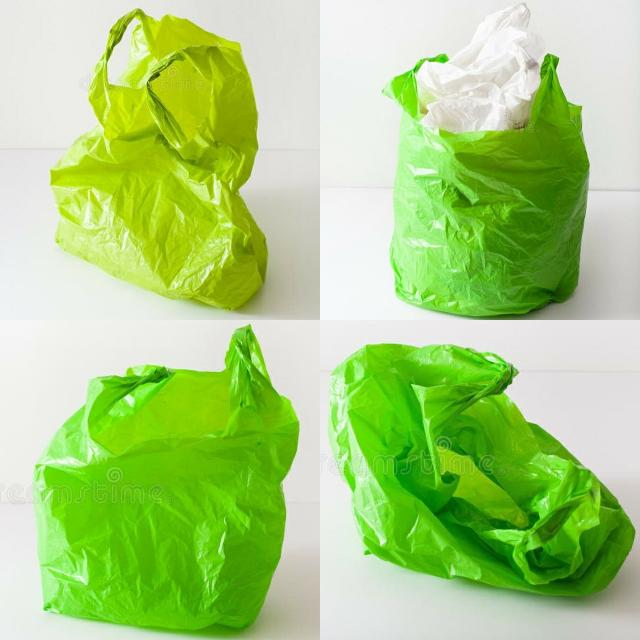Single-layer Plastic: (34, 326, 299, 629), (329, 344, 635, 594), (51, 10, 268, 309), (385, 55, 589, 316), (416, 2, 545, 133)
